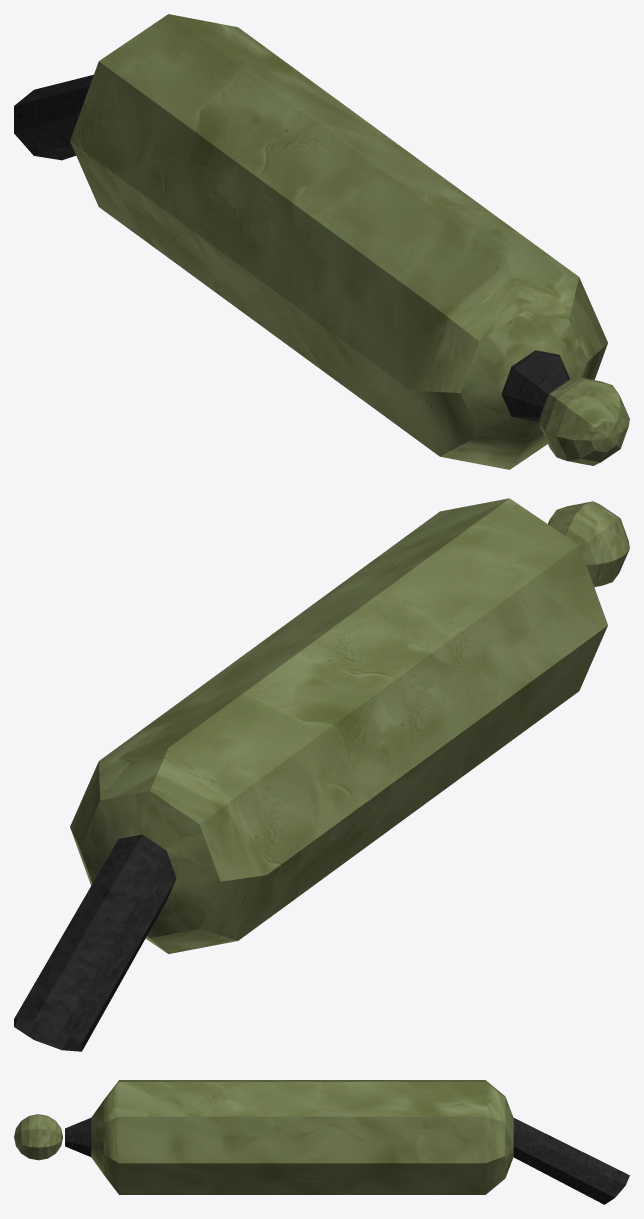
File: weapon.fbx
3 views of the same model, one above another, from view 1: azimuth 30°, elevation 25°; view 2: azimuth 150°, elevation 25°; view 3: azimuth 270°, elevation 25° (orthographic). The views are drawn at different scales.
Visible parts, largest first — view 1: Weapon_, Bullet; view 2: Weapon_, Bullet; view 3: Weapon_, Bullet.
Part boxes in pixels (x1,y1,x2,y2): Weapon_: (14,14,607,469); Bullet: (539,376,629,465); Weapon_: (14,498,607,1051); Bullet: (548,501,629,587); Weapon_: (65,1080,629,1204); Bullet: (14,1114,62,1160).
Size of the model in its own units: 0.8683 by 0.9445 by 4.38.
